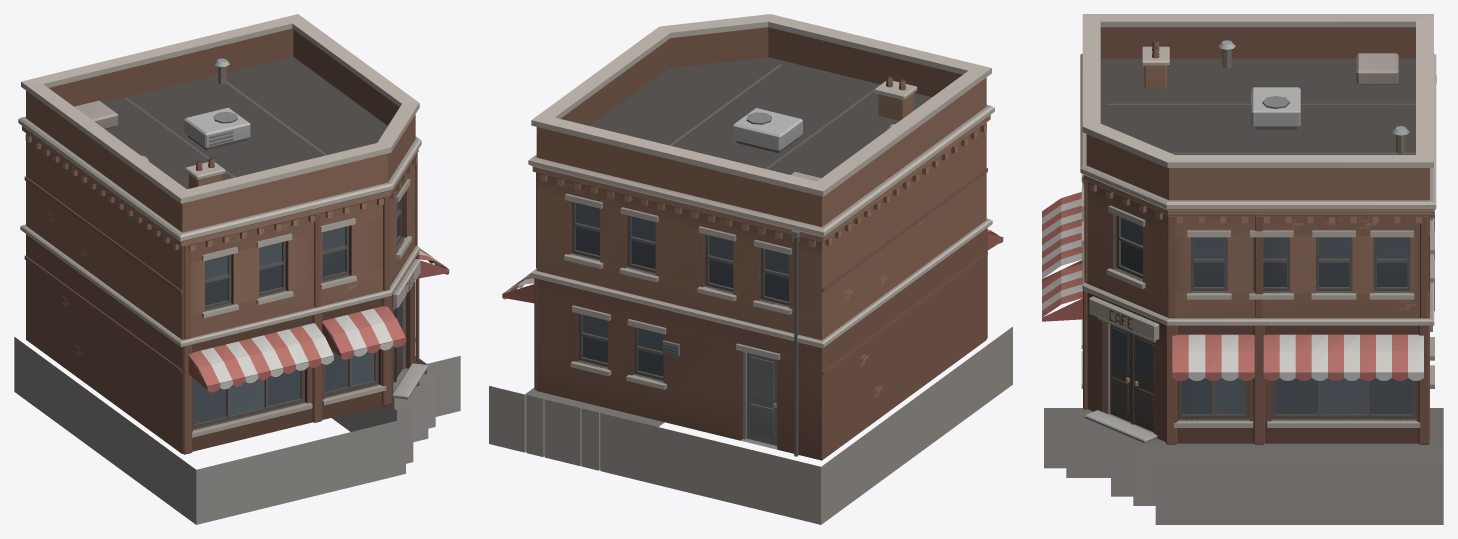
The model's file is corner.glb.
3 renders of one model, left to right at view 1: azimuth 30°, elevation 25°; view 2: azimuth 150°, elevation 25°; view 3: azimuth 270°, elevation 25°, orthographic. The views are drawn at different scales.
Bounding box in the file's own units: 8.96 × 8.5 × 9.02.
